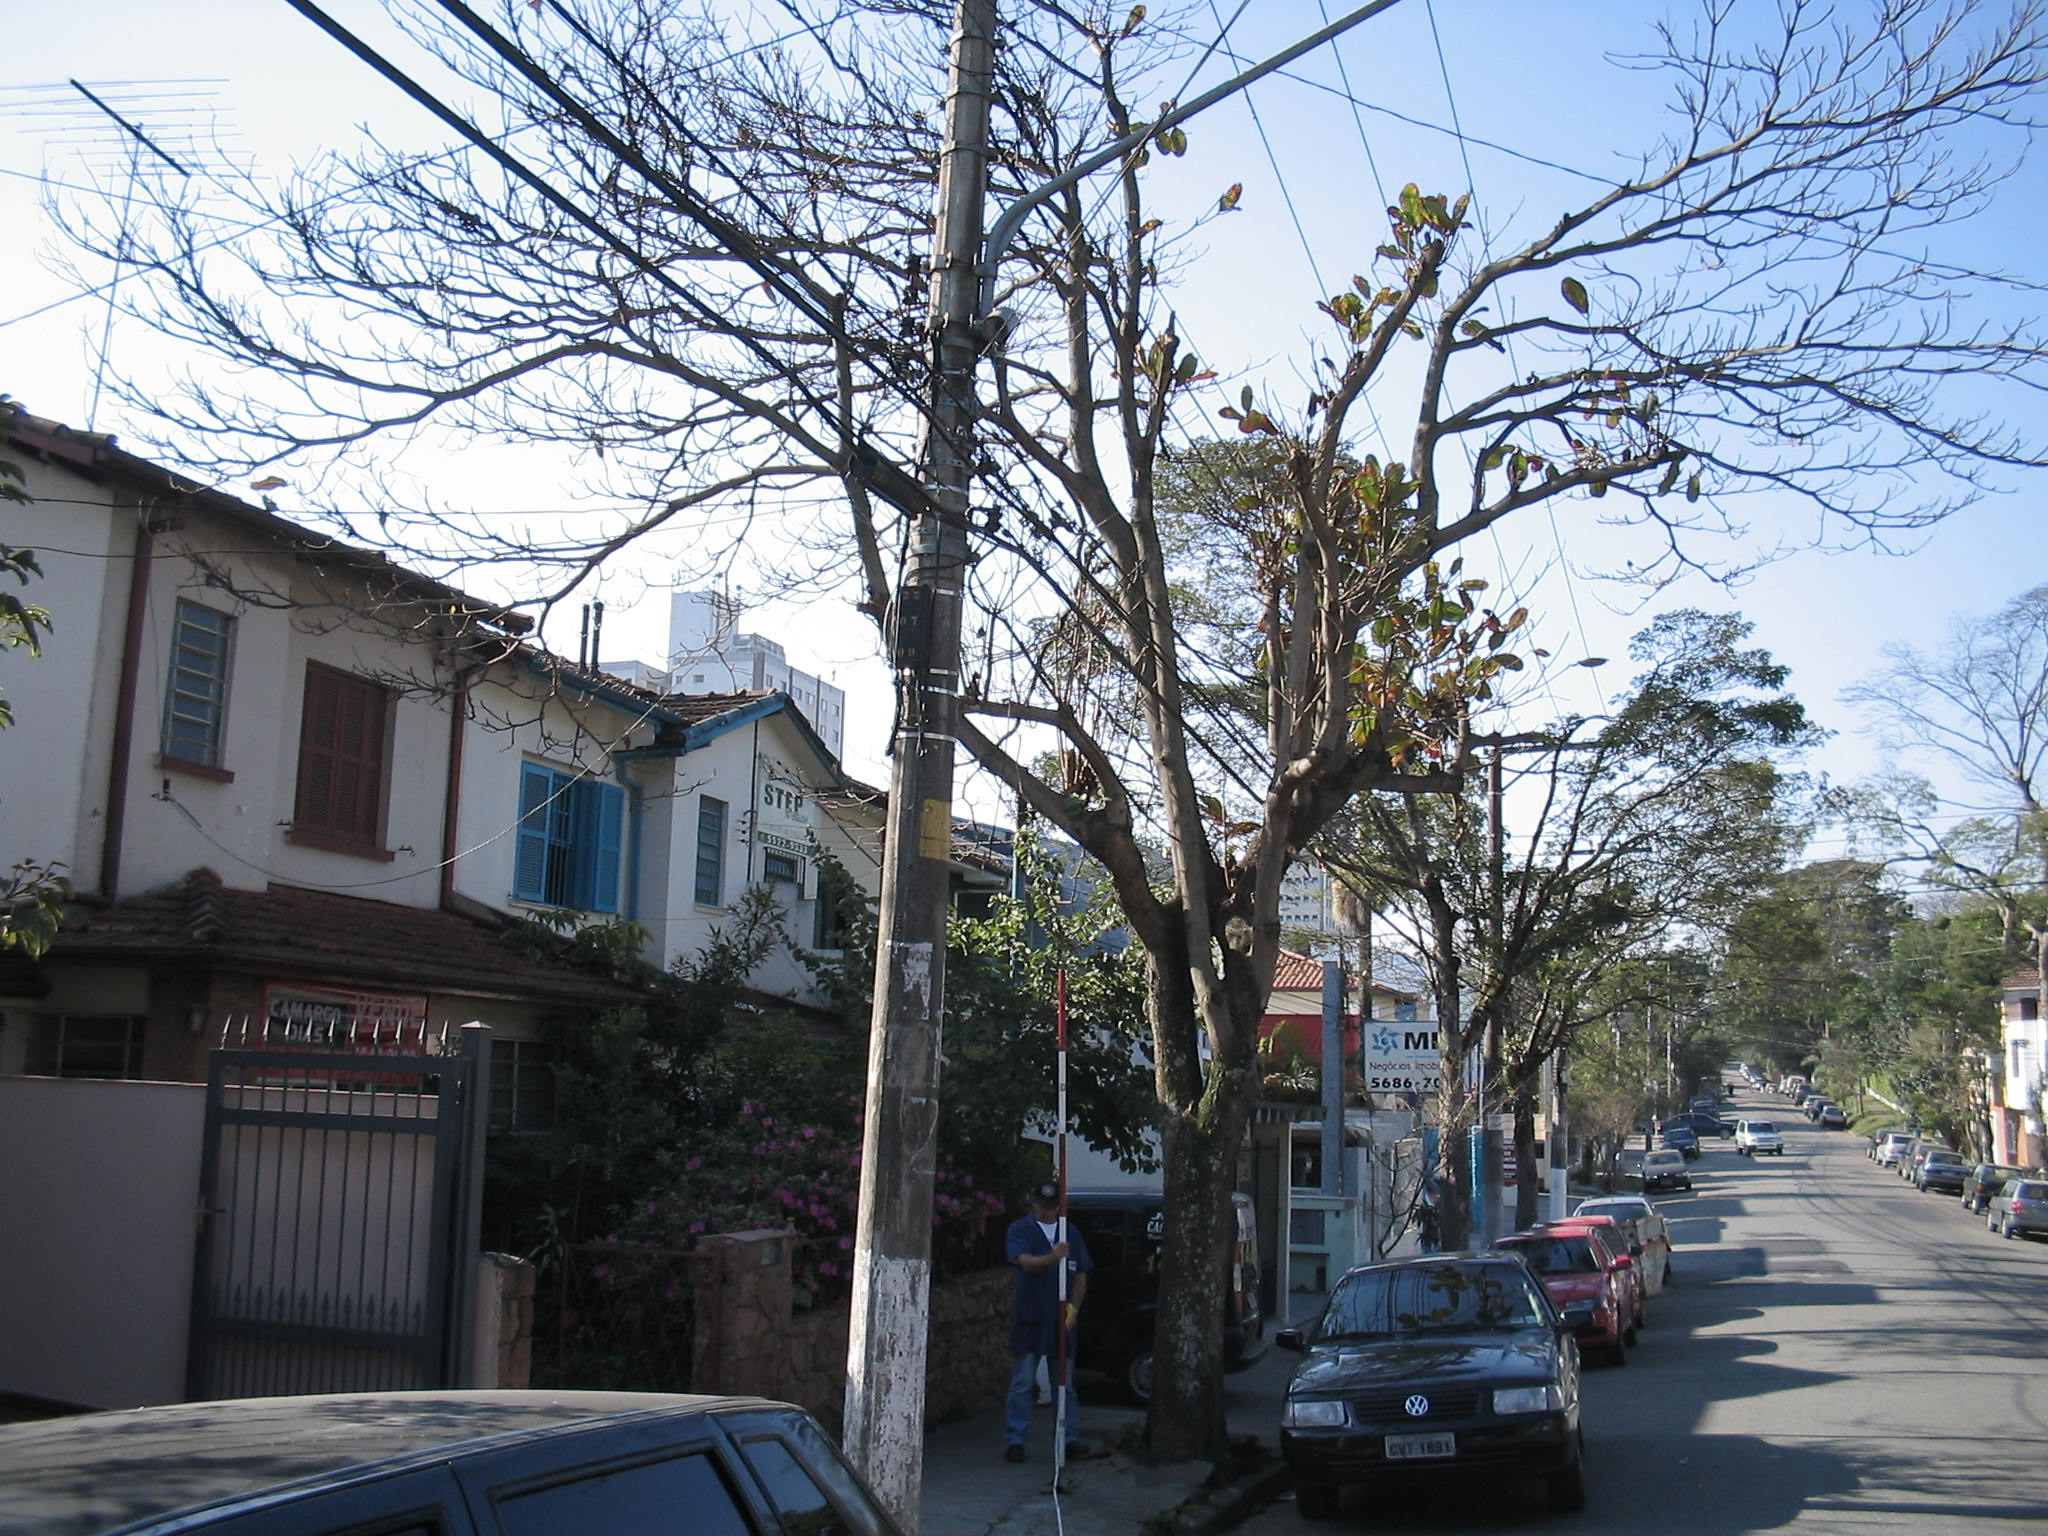stem: (1106, 1131, 1263, 1459)
stick: (1042, 970, 1080, 1497)
tree: (31, 6, 2048, 1460)
